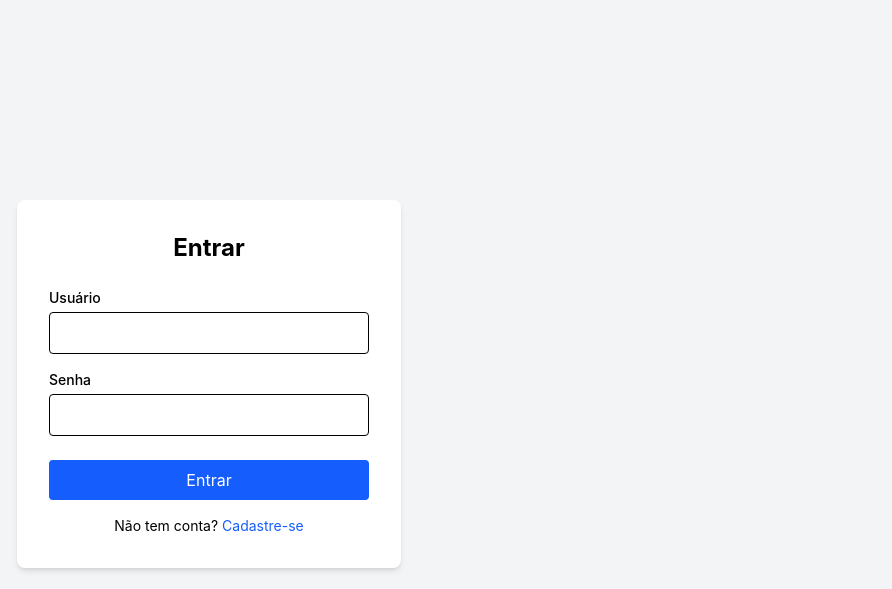
LoginPage › não permite submeter o form vazio
What coordinates should you click on to do the following:
click the button "Entrar"
I would click on:
 (209, 480)
Its box is [49,460,369,500].
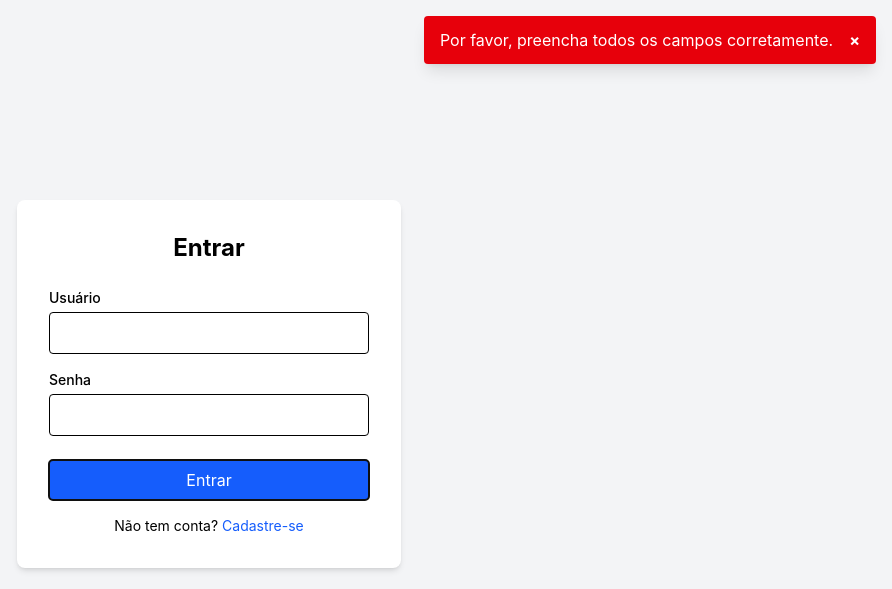
Check: the text "Por favor, preencha todos os campos corretamente." is shown, box [440,28,833,52]
